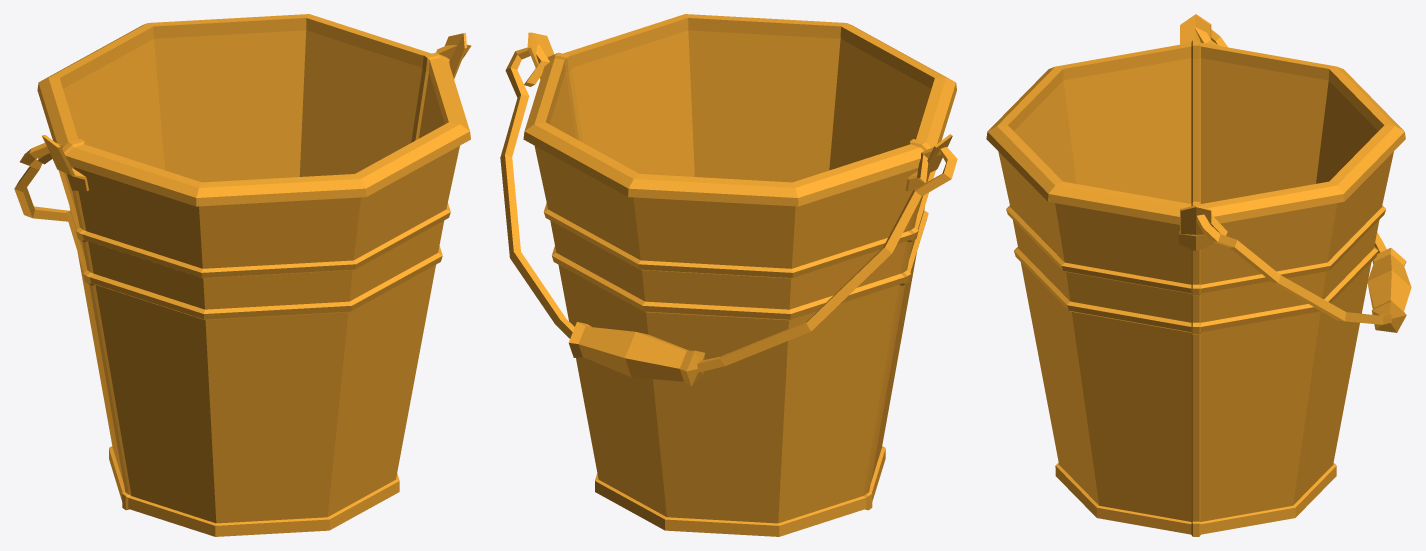
File: SM_Bucket_Metal.fbx
3 renders of one model, left to right at view 1: azimuth 30°, elevation 25°; view 2: azimuth 150°, elevation 25°; view 3: azimuth 270°, elevation 25°, orthographic. The views are drawn at different scales.
Parts seen in each view (by area): view 1: bucket-metal-base, bucket-metal-handle; view 2: bucket-metal-base, bucket-metal-handle; view 3: bucket-metal-base, bucket-metal-handle.
Boxes of the visible parts, x1=… form: bucket-metal-base: x1=37, y1=14, x2=470, y2=536; bucket-metal-handle: x1=14, y1=44, x2=471, y2=221; bucket-metal-base: x1=523, y1=14, x2=956, y2=536; bucket-metal-handle: x1=500, y1=44, x2=957, y2=386; bucket-metal-base: x1=986, y1=14, x2=1405, y2=536; bucket-metal-handle: x1=1194, y1=27, x2=1411, y2=332.
Size of the model in its own units: 0.3628 by 0.3057 by 0.3205.
